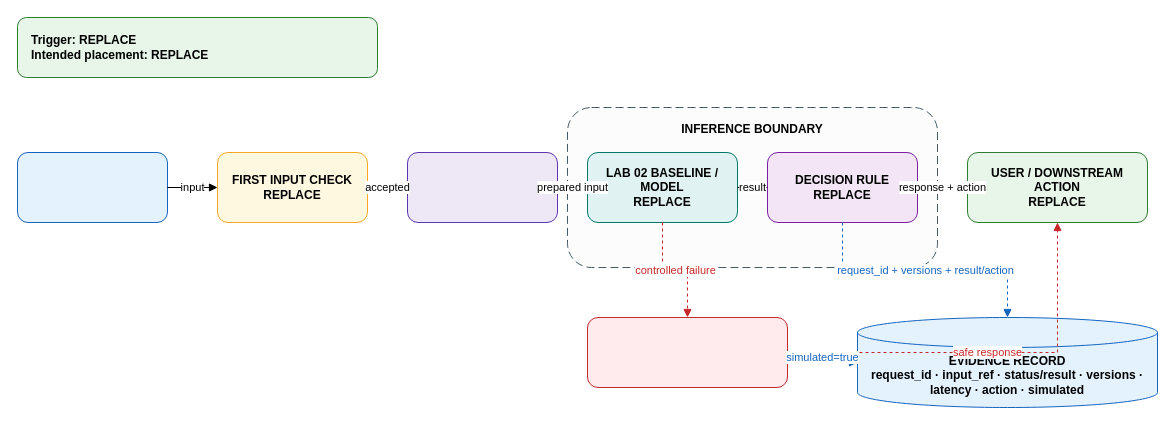
Some shapes in this 1175 by 425 pixel diagram are drawn without their labels. Each missing label, with the centre of its shape:
"INFERENCE UNAVAILABLE Safe action: REPLACE" belongs at [687,352].
"PREPROCESSING REPLACE" belongs at [482,187].
"REAL INPUT SOURCE REPLACE" belongs at [92,187].
